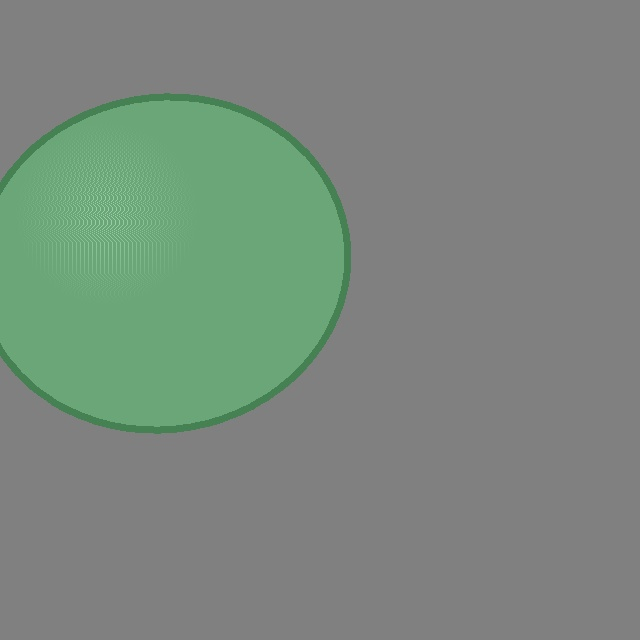lens: (0, 97, 346, 429)
